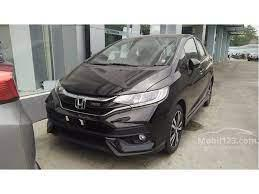Hatchback: (41, 29, 222, 162)
